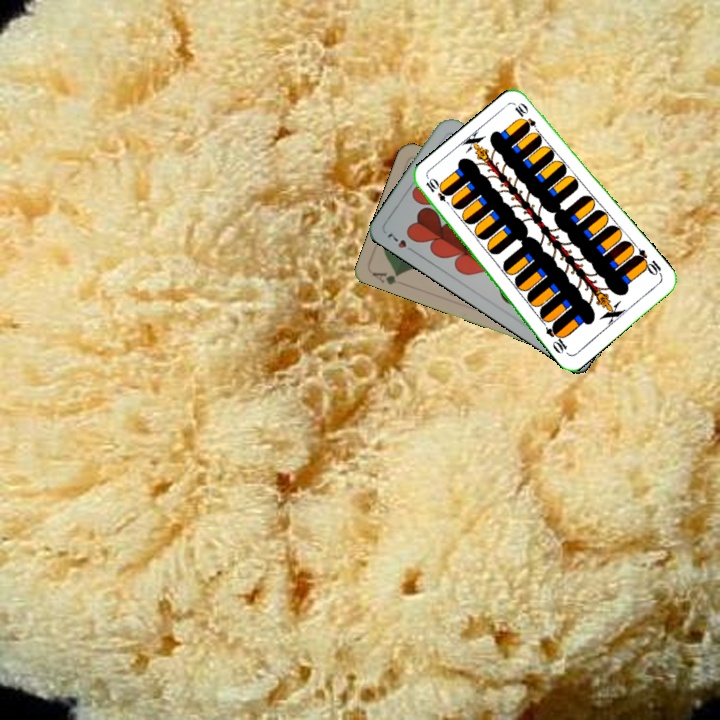E10: (422, 174, 455, 210), (631, 245, 665, 279)
GA: (368, 268, 403, 287)
H7: (383, 228, 418, 256)
